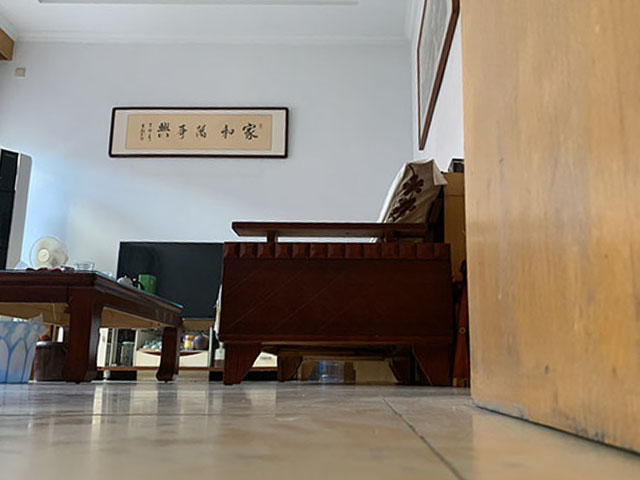sofa: (213, 172, 446, 386)
table: (1, 267, 185, 385)
trashcan: (1, 314, 47, 385)
